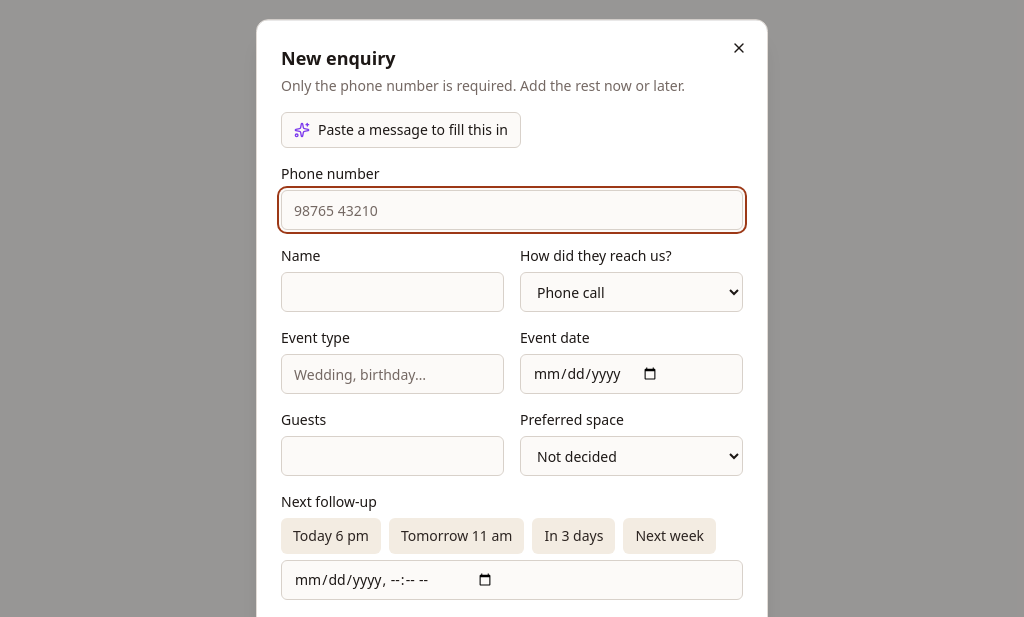
Test: QuickAddDialog › warns when the caller is already a guest with open enquiries
Type "9822222222" into the field labelled "Phone number" at (512, 210), box top-left (281, 190), bottom-right (743, 230)
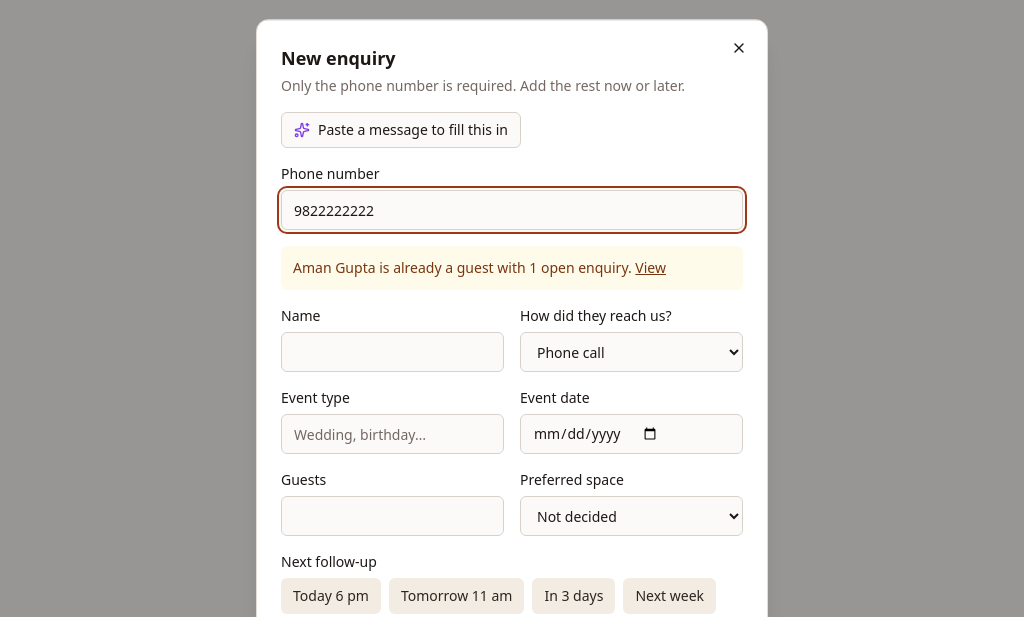
Expected: the text "Aman Gupta is already a guest with 1 open enquiry. View" is shown, top-left (281, 246), bottom-right (743, 290)
